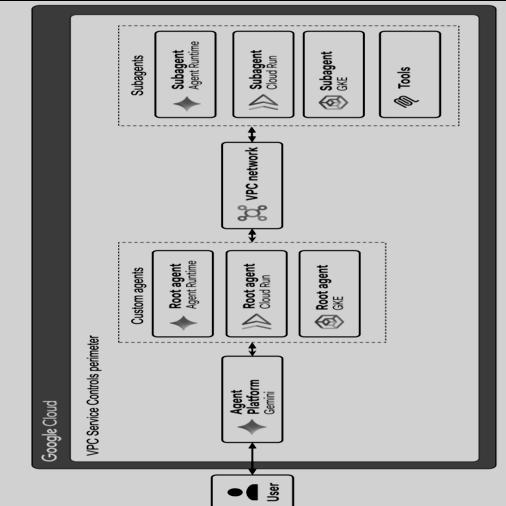actor: (221, 474, 282, 506)
compute: (300, 251, 362, 335), (300, 32, 362, 116), (221, 357, 282, 441), (152, 251, 213, 335), (226, 251, 287, 335), (152, 32, 213, 116), (226, 32, 287, 116), (377, 32, 438, 116)
data_flow: (246, 443, 257, 474), (246, 126, 257, 142), (246, 341, 257, 356), (246, 227, 257, 242)
network_security: (221, 143, 282, 227)
trust_boundary: (30, 5, 496, 469), (70, 14, 478, 460), (116, 24, 459, 123), (117, 242, 386, 342)
